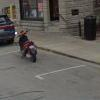Motorcycle: (12, 24, 40, 62)
